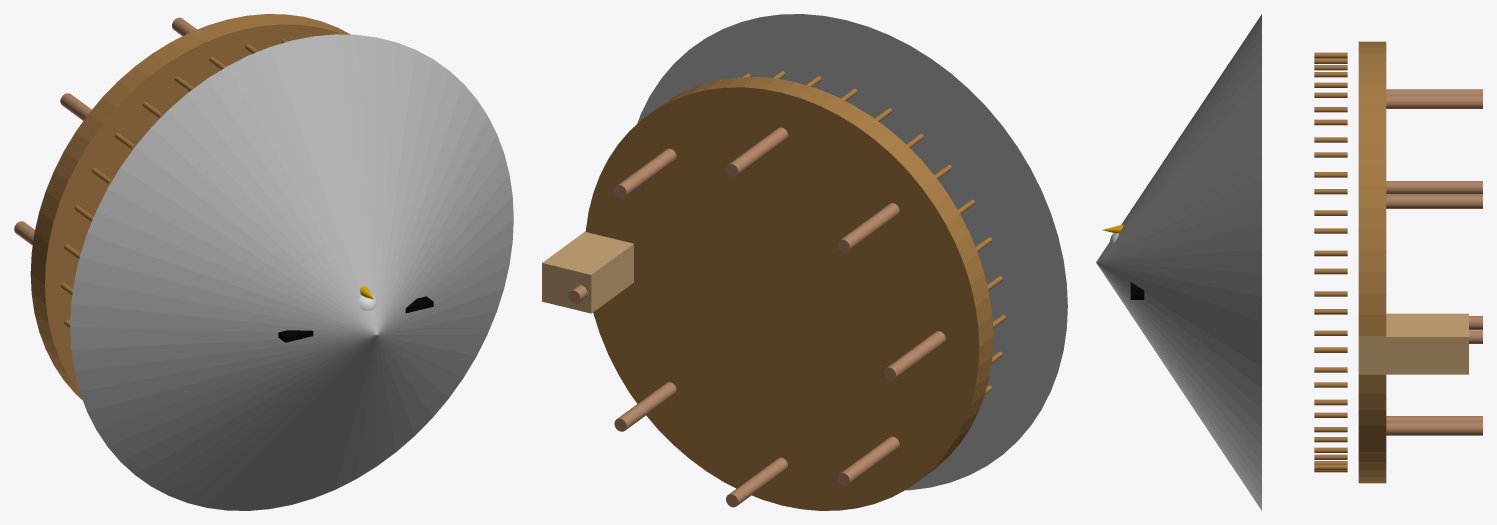
Rendered from rumah_adat_jagoi_babang_depan.glb.
3 views of the same model, side by side, from view 1: azimuth 30°, elevation 25°; view 2: azimuth 150°, elevation 25°; view 3: azimuth 270°, elevation 25° (orthographic). The views are drawn at different scales.
Parts seen in each view (by area): view 1: world; view 2: world; view 3: world.
Part boxes in pixels (bbox=[...]): world: bbox=[14, 14, 513, 510]; world: bbox=[542, 14, 1067, 510]; world: bbox=[1096, 14, 1482, 510].
Size of the model in its own units: 18 by 18 by 14.
